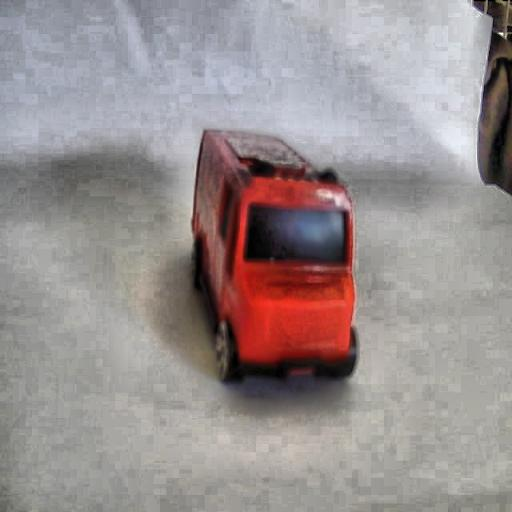fire_truck: (190, 126, 361, 388)
